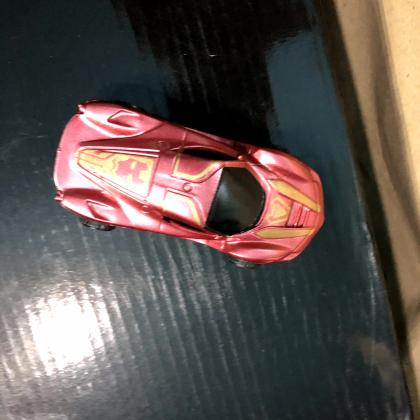Car: (51, 96, 326, 270)
